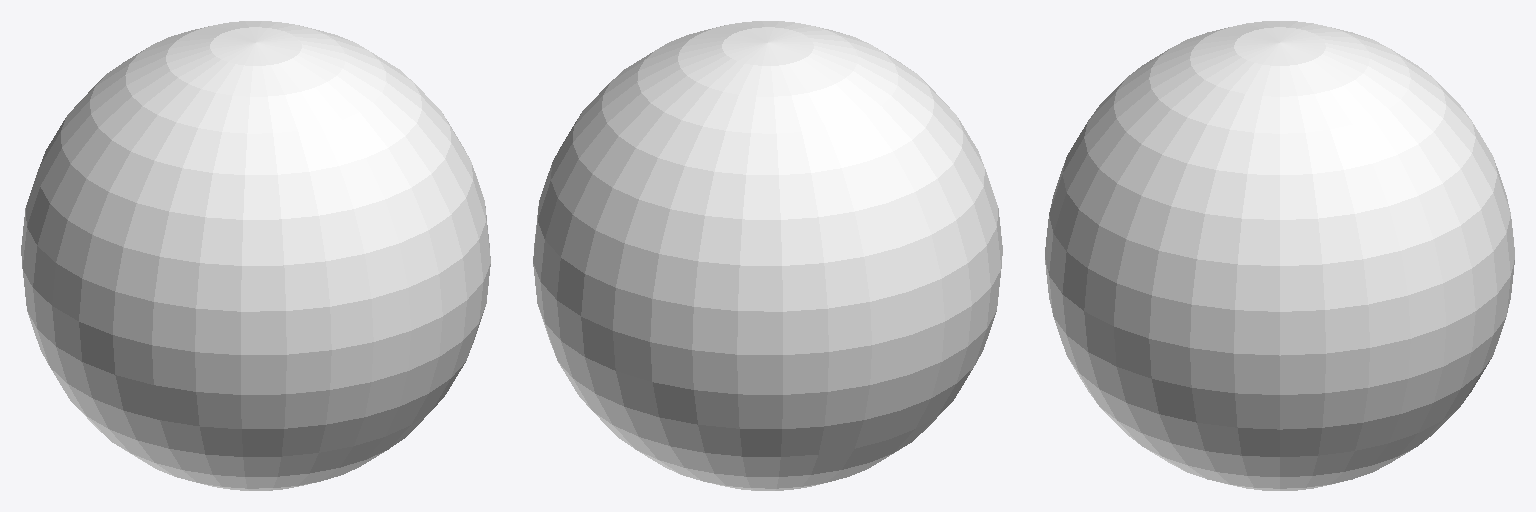
Rendered from skybox_sphere.obj.
3 views of the same model, side by side, from view 1: azimuth 30°, elevation 25°; view 2: azimuth 150°, elevation 25°; view 3: azimuth 270°, elevation 25° (orthographic).
Visible parts, largest first — view 1: Sphere; view 2: Sphere; view 3: Sphere.
Boxes of the visible parts, x1,y1,x2,y2 form: Sphere: [21, 21, 490, 490]; Sphere: [533, 21, 1002, 490]; Sphere: [1045, 21, 1514, 490].
Bounding box in the file's own units: 320 × 320 × 320.